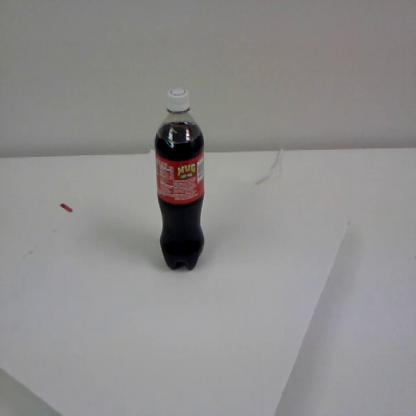bottle: (152, 84, 206, 273)
